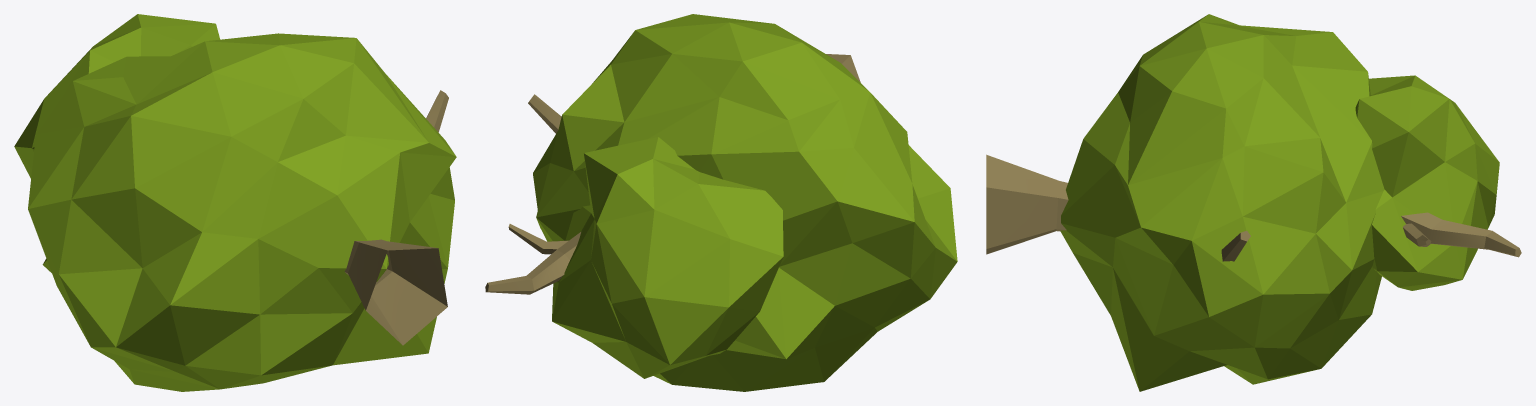
The model's file is LowPoly - Bush 01.fbx.
3 views of the same model, side by side, from view 1: azimuth 30°, elevation 25°; view 2: azimuth 150°, elevation 25°; view 3: azimuth 270°, elevation 25° (orthographic). The views are drawn at different scales.
Visible parts, largest first — view 1: LowPoly - Bush 01; view 2: LowPoly - Bush 01; view 3: LowPoly - Bush 01.
Part boxes in pixels (<box>): LowPoly - Bush 01: <box>14,14,456,391</box>; LowPoly - Bush 01: <box>485,14,957,391</box>; LowPoly - Bush 01: <box>986,14,1521,391</box>.
Size of the model in its own units: 214 by 170 by 258.
